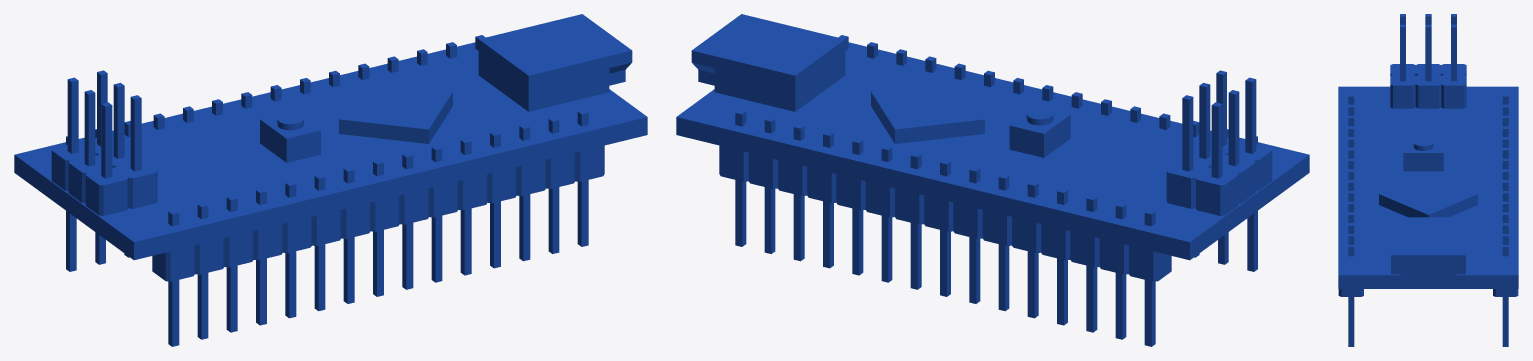
The model's file is arduino-nano.glb.
The picture shows the model from 3 angles, left to right: view 1: azimuth 30°, elevation 25°; view 2: azimuth 150°, elevation 25°; view 3: azimuth 270°, elevation 25°; orthographic projection. The views are drawn at different scales.
Parts seen in each view (by area): view 1: Fusion015; view 2: Fusion015; view 3: Fusion015.
Part boxes in pixels (x1,y1,x2,y2): Fusion015: (14, 14, 647, 346); Fusion015: (676, 14, 1309, 346); Fusion015: (1338, 14, 1518, 346).
Size of the model in its own units: 46.3 by 18.5 by 18.
